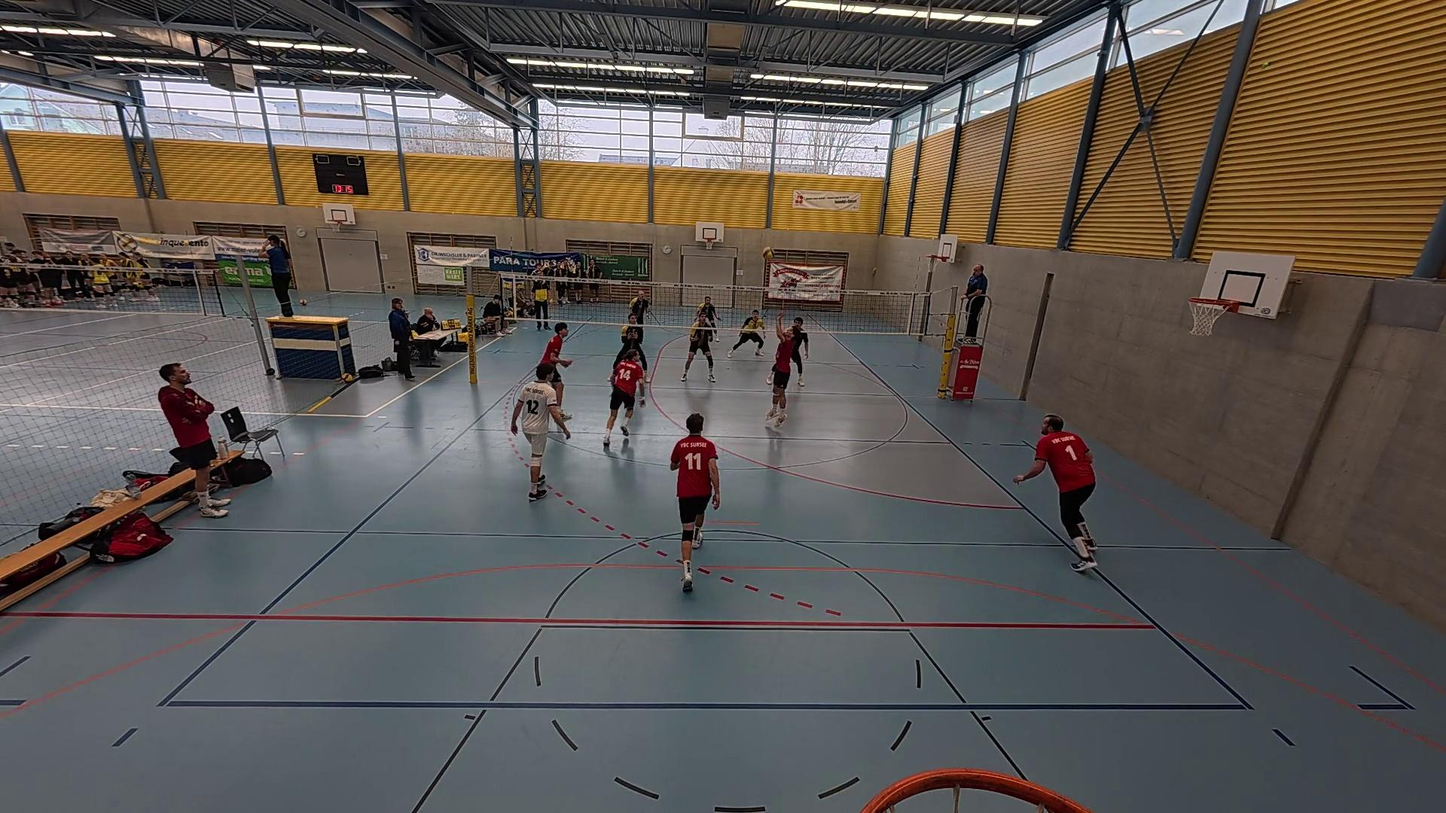Player: (1014, 415, 1097, 571), (670, 412, 719, 591), (511, 365, 569, 499), (762, 315, 804, 434), (604, 342, 648, 449), (536, 323, 572, 423), (617, 318, 654, 398), (682, 311, 716, 383), (729, 309, 766, 361), (788, 315, 811, 379), (697, 293, 718, 339), (626, 289, 648, 327)
ball: (764, 245, 776, 256)
